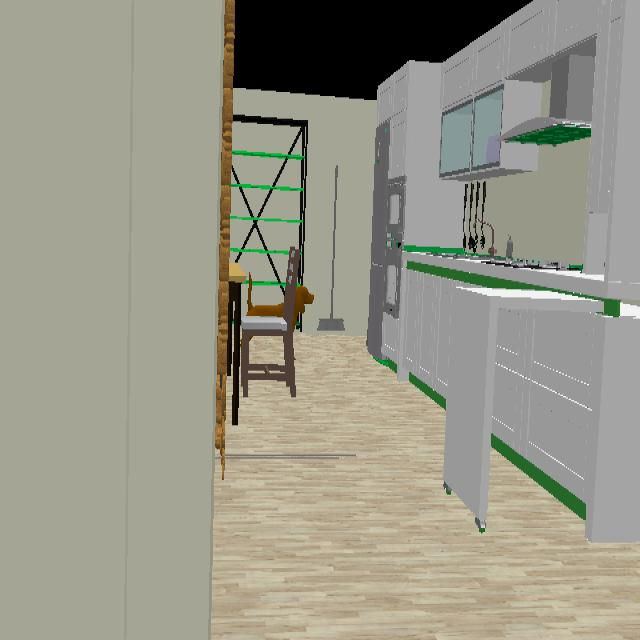cabinet: (378, 0, 640, 282), (492, 305, 640, 539)
chair: (241, 247, 300, 397)
fridge: (366, 122, 390, 358)
microwave: (388, 175, 406, 233)
oven: (384, 238, 401, 318)
stove: (504, 258, 569, 270), (570, 265, 582, 270)
